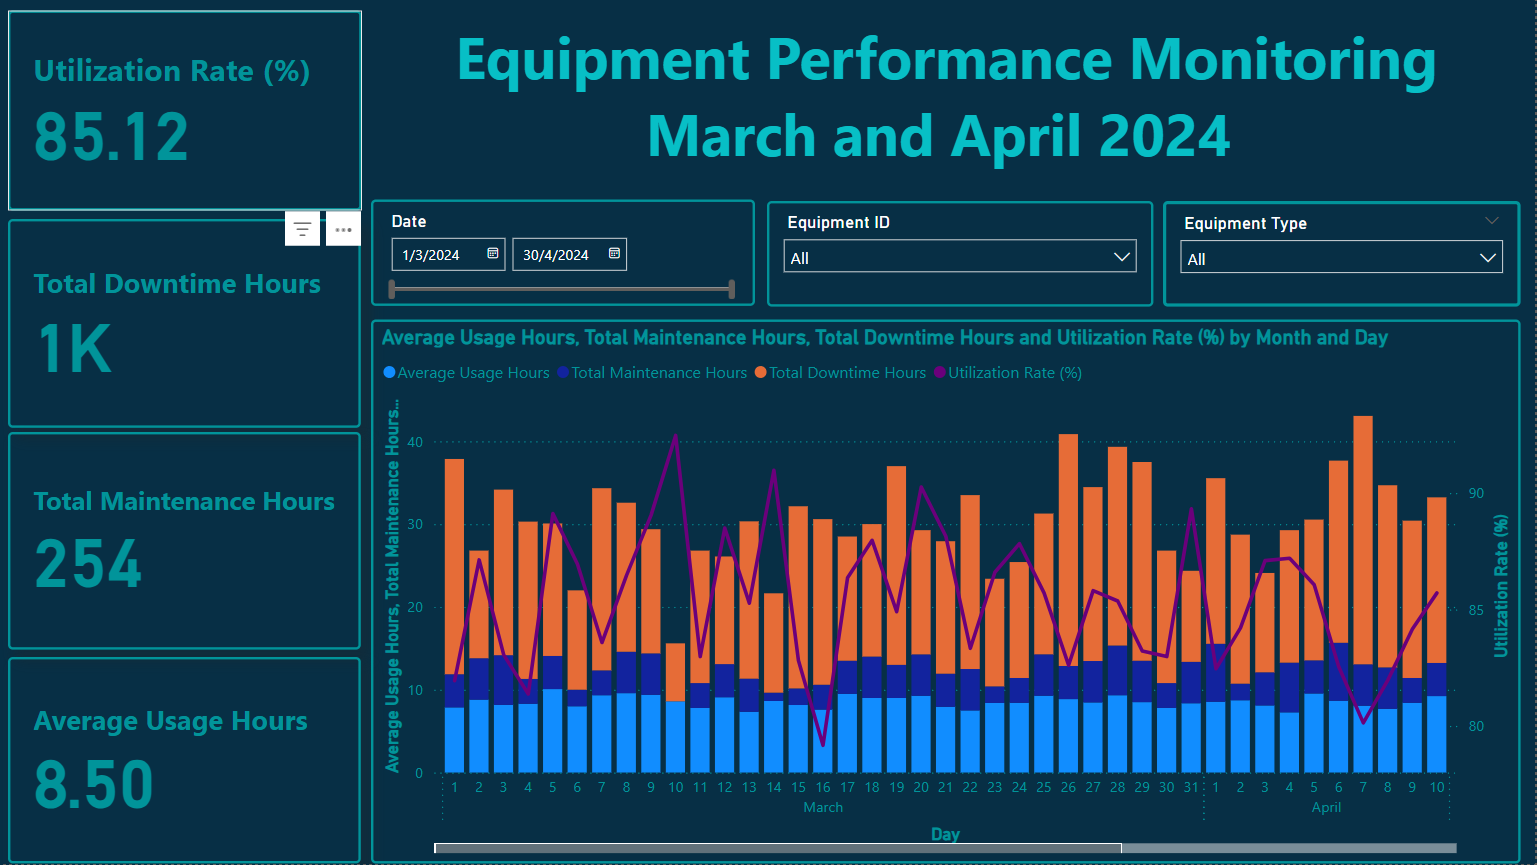

The page's visual inventory and layout, read from the dashboard file:
{"tool":"powerbi","page":{"name":"Page 1","canvas":[1280,720],"ordinal":0},"visuals":[{"type":"cardVisual","fields":{"Data":["cleaned_equipment_performance_data.Total Downtime Hours"]},"box":[8,183,294,174],"z":0},{"type":"cardVisual","fields":{"Data":["cleaned_equipment_performance_data.Total Maintenance Hours"]},"box":[8,360,294,181],"z":1000},{"type":"cardVisual","fields":{"Data":["cleaned_equipment_performance_data.Average Usage Hours"]},"box":[8,548,294,172],"z":2000},{"type":"slicer","fields":{"Values":["cleaned_equipment_performance_data.Equipment Type"]},"box":[970,167.8,297.8,87.8],"z":3000},{"type":"slicer","fields":{"Values":["cleaned_equipment_performance_data.Equipment ID"]},"box":[640,167.8,322.2,87.8],"z":4000},{"type":"slicer","fields":{"Values":["cleaned_equipment_performance_data.Date"]},"box":[310,166.7,320,88.9],"z":5000},{"type":"lineStackedColumnComboChart","fields":{"Y":["cleaned_equipment_performance_data.Average Usage Hours","cleaned_equipment_performance_data.Total Maintenance Hours","cleaned_equipment_performance_data.Total Downtime Hours"],"Category":["cleaned_equipment_performance_data.Date.Variation.Date Hierarchy.Month","cleaned_equipment_performance_data.Date.Variation.Date Hierarchy.Day"],"Y2":["cleaned_equipment_performance_data.Utilization Rate (%)"]},"box":[310,266.7,957.8,453.3],"z":6000},{"type":"cardVisual","fields":{"Data":["cleaned_equipment_performance_data.Utilization Rate (%)"]},"box":[7.8,8.9,294.4,166.7],"z":7000},{"type":"textbox","box":[311.2,8.8,956.2,140],"z":8000}]}

Visuals, with their boxes in screenshot pixels (x1, y1, x2, y2), scaled from the page's 1280x720 canvas onto the 1537x865 screenshot:
cardVisual - cleaned_equipment_performance_data.Total Downtime Hours: [left=10, top=220, right=363, bottom=429]
cardVisual - cleaned_equipment_performance_data.Total Maintenance Hours: [left=10, top=432, right=363, bottom=650]
cardVisual - cleaned_equipment_performance_data.Average Usage Hours: [left=10, top=658, right=363, bottom=864]
slicer - cleaned_equipment_performance_data.Equipment Type: [left=1165, top=202, right=1522, bottom=307]
slicer - cleaned_equipment_performance_data.Equipment ID: [left=768, top=202, right=1155, bottom=307]
slicer - cleaned_equipment_performance_data.Date: [left=372, top=200, right=756, bottom=307]
lineStackedColumnComboChart - cleaned_equipment_performance_data.Average Usage Hours x cleaned_equipment_performance_data.Total Maintenance Hours: [left=372, top=320, right=1522, bottom=864]
cardVisual - cleaned_equipment_performance_data.Utilization Rate (%): [left=9, top=11, right=363, bottom=211]
textbox: [left=374, top=11, right=1522, bottom=179]
